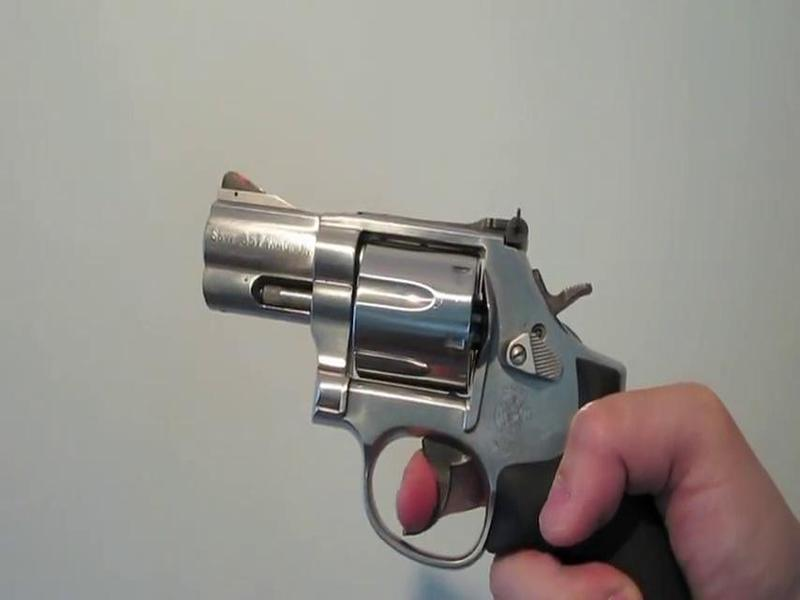Revolver: (198, 138, 640, 555)
